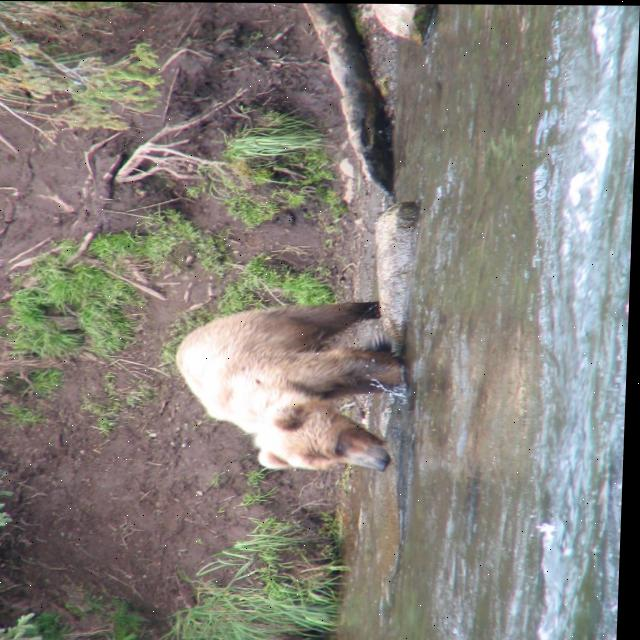bear face: (172, 299, 401, 477)
